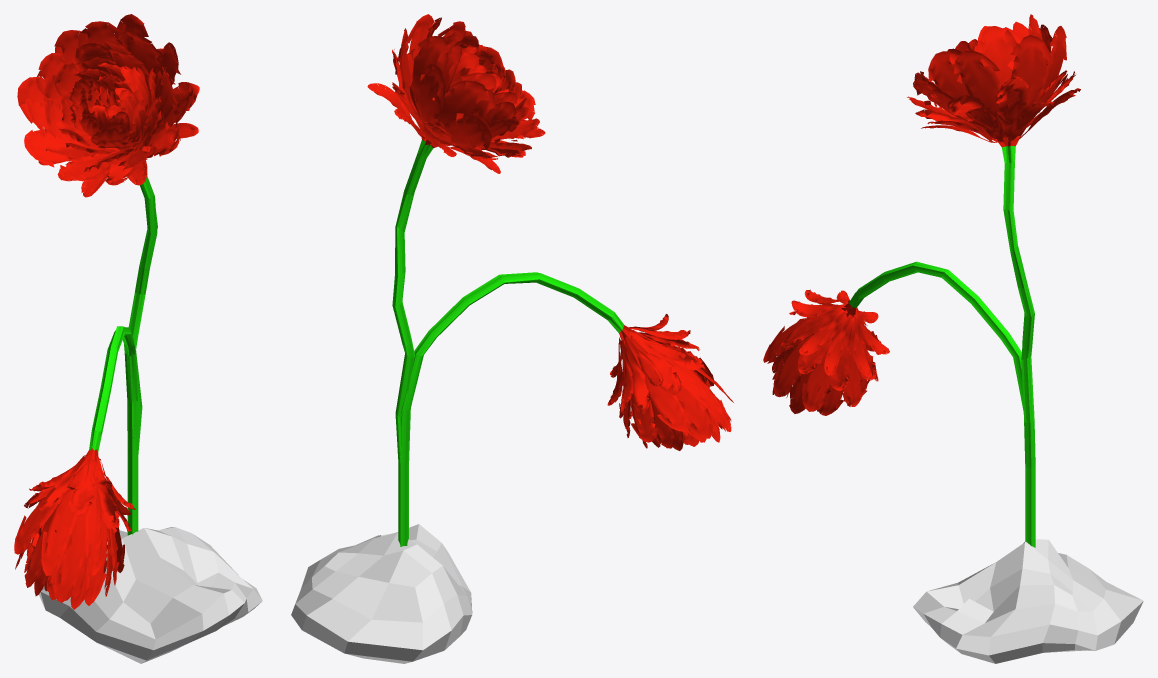
The model's file is livef.fbx.
3 renders of one model, left to right at view 1: azimuth 30°, elevation 25°; view 2: azimuth 150°, elevation 25°; view 3: azimuth 270°, elevation 25°, orthographic. The views are drawn at different scales.
Visible parts, largest first — view 1: FLOWER SET_18.002, Cube, FLOWER SET_18.001; view 2: FLOWER SET_18.002, Cube, FLOWER SET_18.001; view 3: Cube, FLOWER SET_18.002, FLOWER SET_18.001.
Boxes of the visible parts, x1,y1,x2,y2 form: FLOWER SET_18.002: (17, 14, 199, 455); Cube: (39, 527, 262, 663); FLOWER SET_18.001: (14, 326, 138, 609); FLOWER SET_18.002: (367, 14, 545, 463); Cube: (291, 524, 472, 663); FLOWER SET_18.001: (398, 272, 733, 546); Cube: (913, 539, 1143, 663); FLOWER SET_18.002: (907, 14, 1080, 467); FLOWER SET_18.001: (763, 261, 1035, 547).
Bounding box in the file's own units: 1765 × 3241 × 1846.
